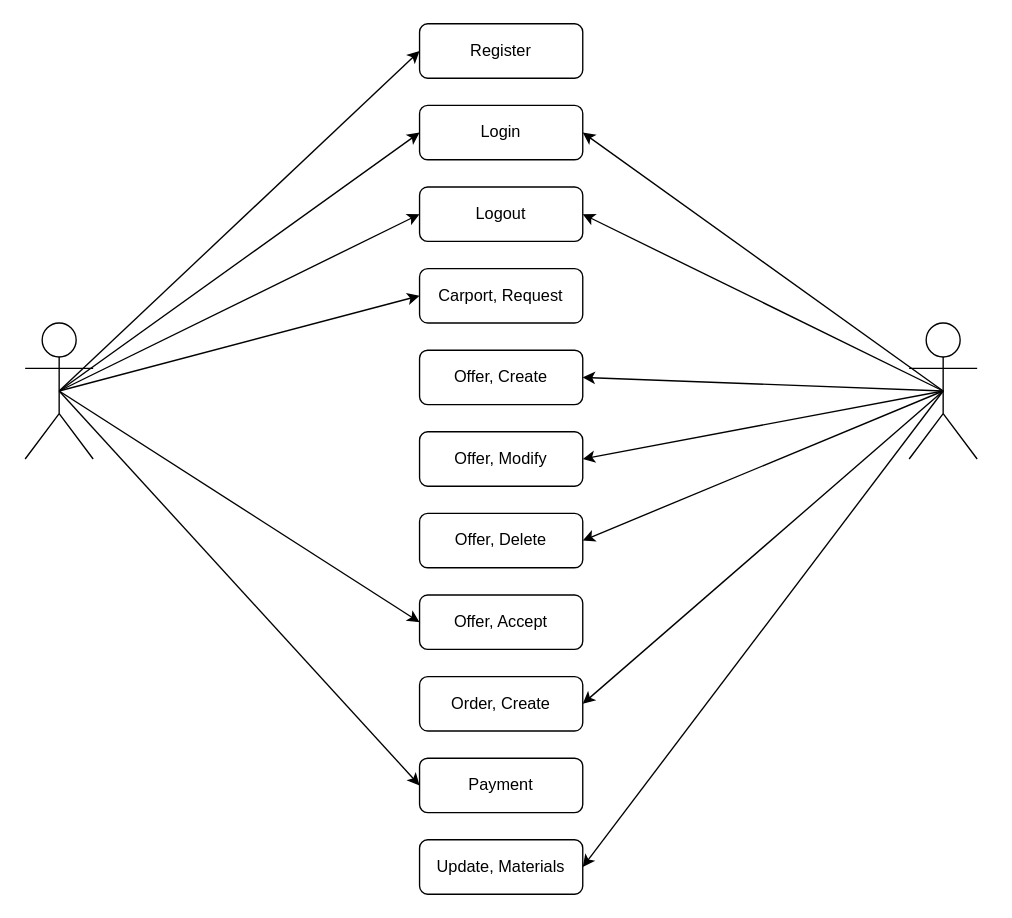
This 1012x918 diagram has some shape labels left out. Here are the shapes that lost their labels. From the top down, the centre of each, then its label:
the point at 58,390: Customer
the point at 942,390: Salesperson
